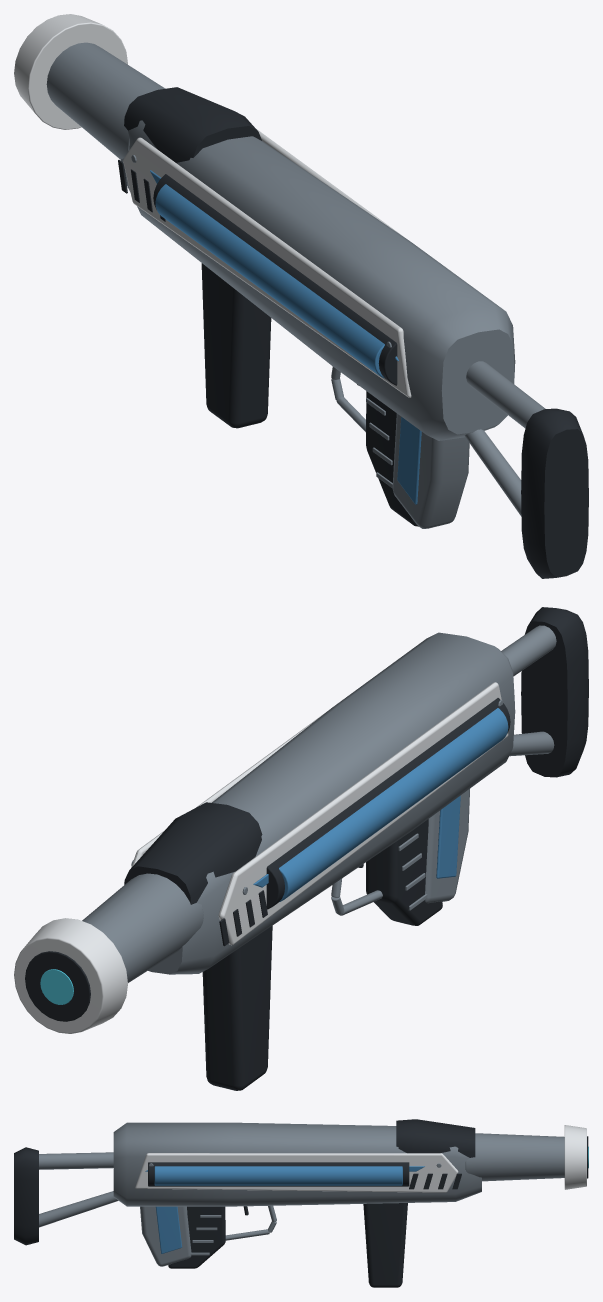
File: blaster-p-mk4.glb
The picture shows the model from 3 angles, top to bottom: view 1: azimuth 30°, elevation 25°; view 2: azimuth 150°, elevation 25°; view 3: azimuth 270°, elevation 25°; orthographic projection. The views are drawn at different scales.
Parts seen in each view (by area): view 1: Pink War IV / nova; view 2: Pink War IV / nova; view 3: Pink War IV / nova.
Boxes of the visible parts, x1,y1,x2,y2 form: Pink War IV / nova: (14,14,588,578); Pink War IV / nova: (14,607,588,1090); Pink War IV / nova: (14,1119,588,1287).
Size of the model in its own units: 0.132 by 0.2672 by 0.871.
